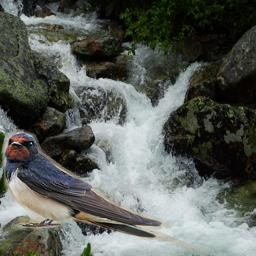Swallow: (2, 129, 211, 255)
